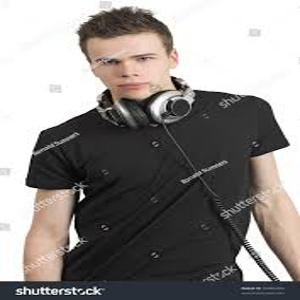Headphones: (95, 73, 197, 127)
